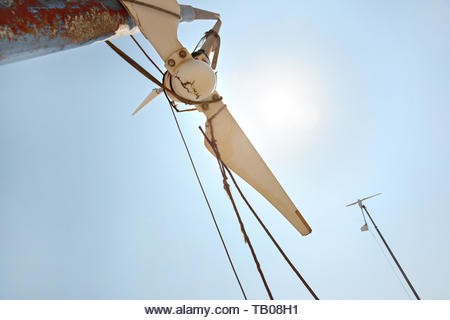faulty: (128, 11, 317, 234)
